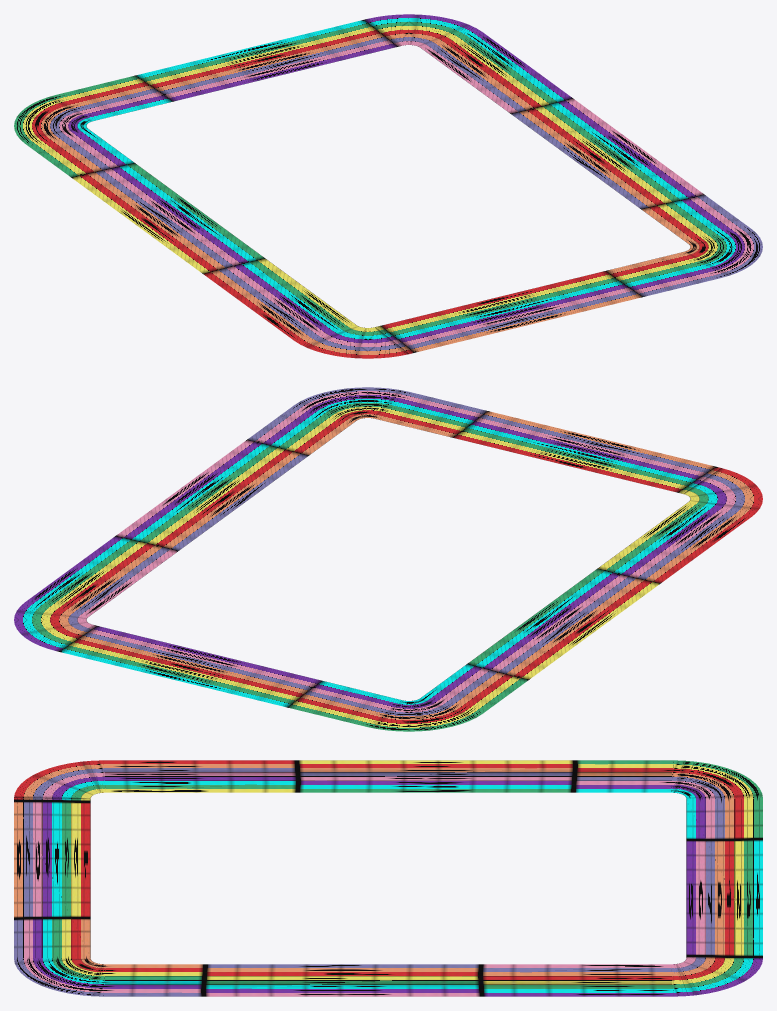
Rendered from Inner.fbx.
The picture shows the model from 3 angles, top to bottom: view 1: azimuth 30°, elevation 25°; view 2: azimuth 150°, elevation 25°; view 3: azimuth 270°, elevation 25°; orthographic projection. The views are drawn at different scales.
Parts seen in each view (by area): view 1: Inner; view 2: Inner; view 3: Inner.
Boxes of the visible parts, <box> form: Inner: <box>14,14,762,358</box>; Inner: <box>14,387,762,731</box>; Inner: <box>14,760,762,996</box>.
Bounding box in the file's own units: 364 × 8.42e-05 × 488.
1 material, 1 textured.
